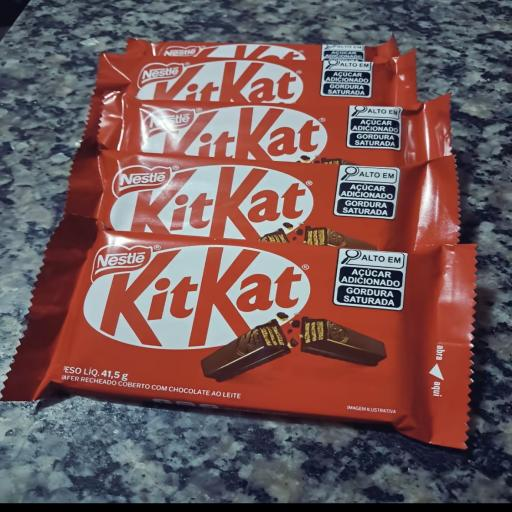kitkat: (2, 208, 479, 510), (35, 15, 447, 116)
